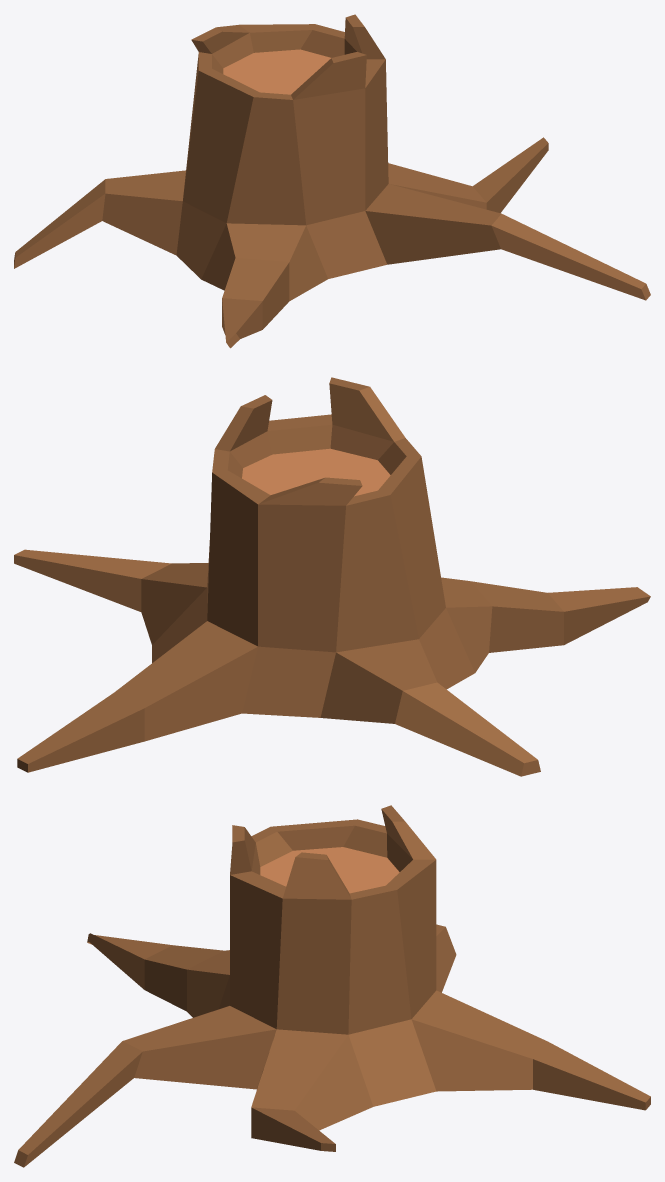
The model's file is Stub2.fbx.
3 views of the same model, one above another, from view 1: azimuth 30°, elevation 25°; view 2: azimuth 150°, elevation 25°; view 3: azimuth 270°, elevation 25° (orthographic). The views are drawn at different scales.
Visible parts, largest first — view 1: Cylinder.007; view 2: Cylinder.007; view 3: Cylinder.007.
Part boxes in pixels (x1,y1,x2,y2): Cylinder.007: (14,14,650,348); Cylinder.007: (14,377,650,776); Cylinder.007: (14,805,650,1167).
Bounding box in the file's own units: 386 × 160 × 405.
